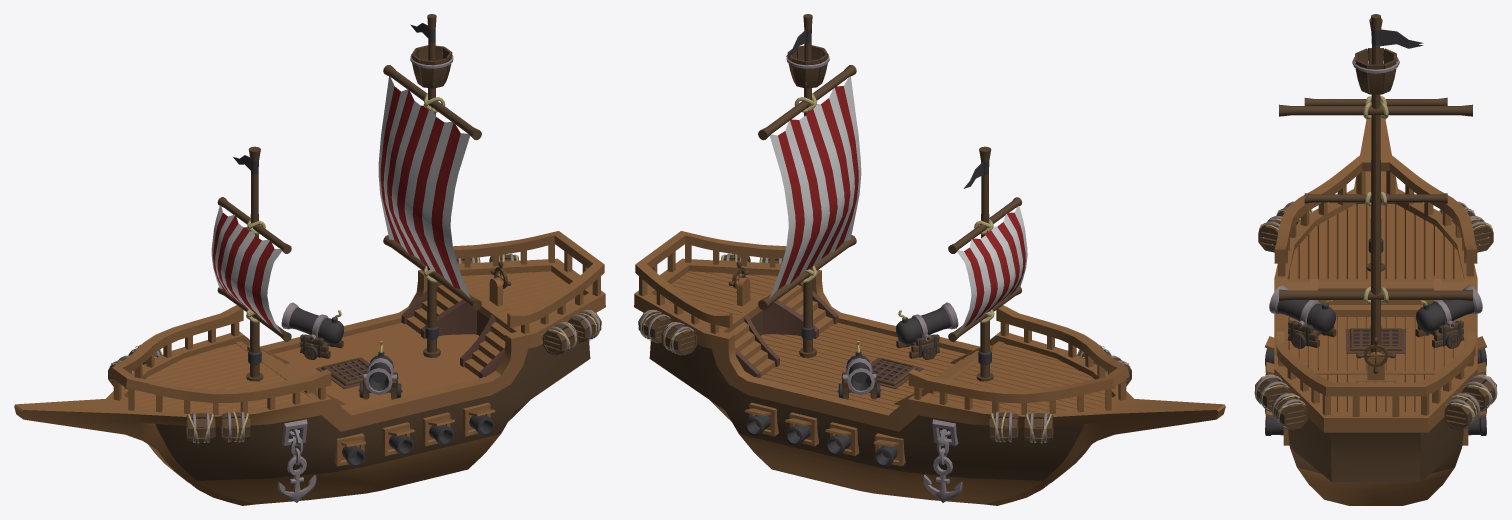
File: Ship.glb
3 renders of one model, left to right at view 1: azimuth 30°, elevation 25°; view 2: azimuth 150°, elevation 25°; view 3: azimuth 270°, elevation 25°, orthographic. The views are drawn at different scales.
Visible parts, largest first — view 1: Ship_Large; view 2: Ship_Large; view 3: Ship_Large.
Part boxes in pixels (x1,y1,x2,y2): Ship_Large: [14, 14, 605, 505]; Ship_Large: [634, 14, 1225, 505]; Ship_Large: [1254, 14, 1497, 505].
Size of the model in its own units: 15.43 by 11.48 by 5.3.
1 material, 1 textured.
